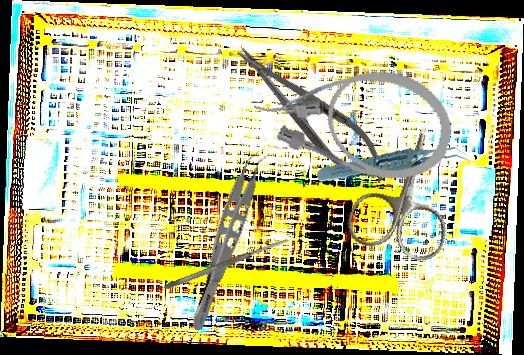Cannula: (244, 40, 463, 193)
Iris Scissors: (341, 111, 475, 267)
Needle Holder: (224, 31, 400, 197)
Spatula Surgical: (163, 236, 291, 291)
Tissue Forceps: (186, 145, 274, 337), (316, 135, 471, 196)
